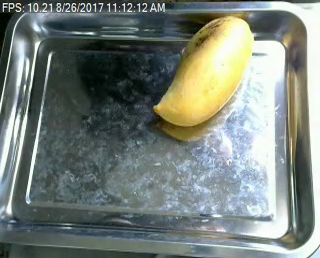Mango: (150, 14, 256, 132)
